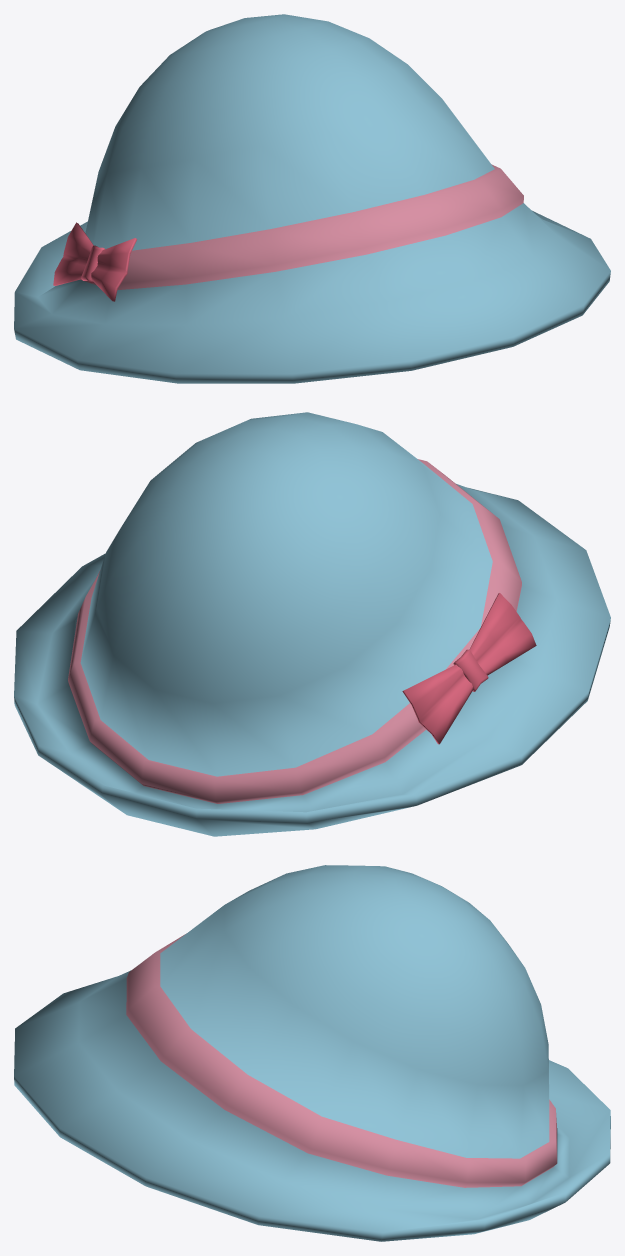
The model's file is hat_bow.fbx.
3 views of the same model, one above another, from view 1: azimuth 30°, elevation 25°; view 2: azimuth 150°, elevation 25°; view 3: azimuth 270°, elevation 25° (orthographic). The views are drawn at different scales.
Visible parts, largest first — view 1: Cube; view 2: Cube; view 3: Cube.
Part boxes in pixels (x1,y1,x2,y2): Cube: (14,14,610,383); Cube: (14,412,610,836); Cube: (14,865,610,1241).
Bounding box in the file's own units: 0.9849 × 0.5712 × 1.05.
